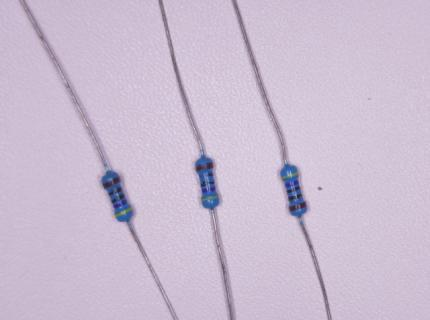Black band: (111, 193, 126, 204), (108, 186, 123, 196), (288, 193, 302, 201), (286, 187, 301, 194), (199, 172, 213, 179), (201, 180, 215, 186)
Brown band: (103, 177, 121, 188), (289, 201, 307, 212), (195, 162, 214, 172)
Violet band: (113, 199, 128, 209), (285, 180, 299, 188), (201, 186, 216, 193)
Yellow band: (115, 206, 133, 218), (281, 171, 299, 179), (202, 195, 220, 201)
